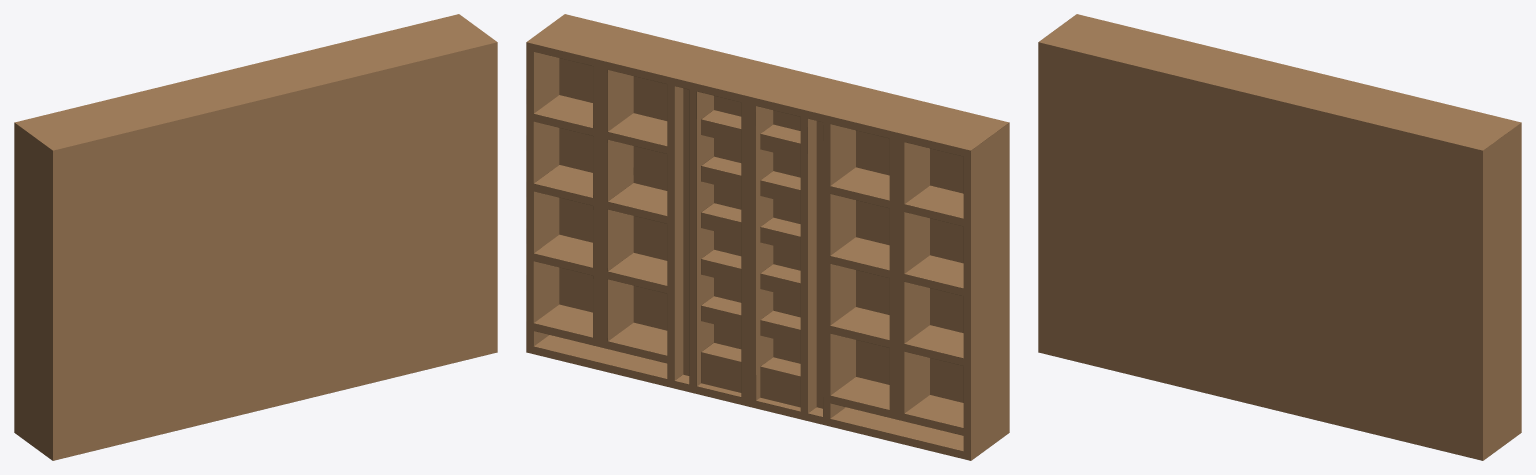
Rendered from StorageCabinet_19.fbx.
3 renders of one model, left to right at view 1: azimuth 30°, elevation 25°; view 2: azimuth 150°, elevation 25°; view 3: azimuth 330°, elevation 25°, orthographic.
Parts seen in each view (by area): view 1: StorageCabinet_19.002; view 2: StorageCabinet_19.002; view 3: StorageCabinet_19.002.
Part boxes in pixels (x1=…): StorageCabinet_19.002: x1=14, y1=14, x2=497, y2=460; StorageCabinet_19.002: x1=526, y1=14, x2=1009, y2=460; StorageCabinet_19.002: x1=1038, y1=14, x2=1521, y2=460.
Bounding box in the file's own units: 6 × 4 × 0.9.
Materials: 1 (1 with a texture image).
